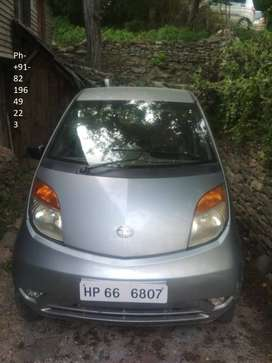HP666807: (80, 278, 167, 303)
